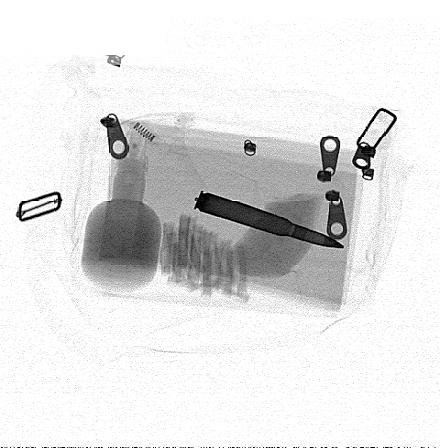Bullet: (192, 190, 348, 248)
